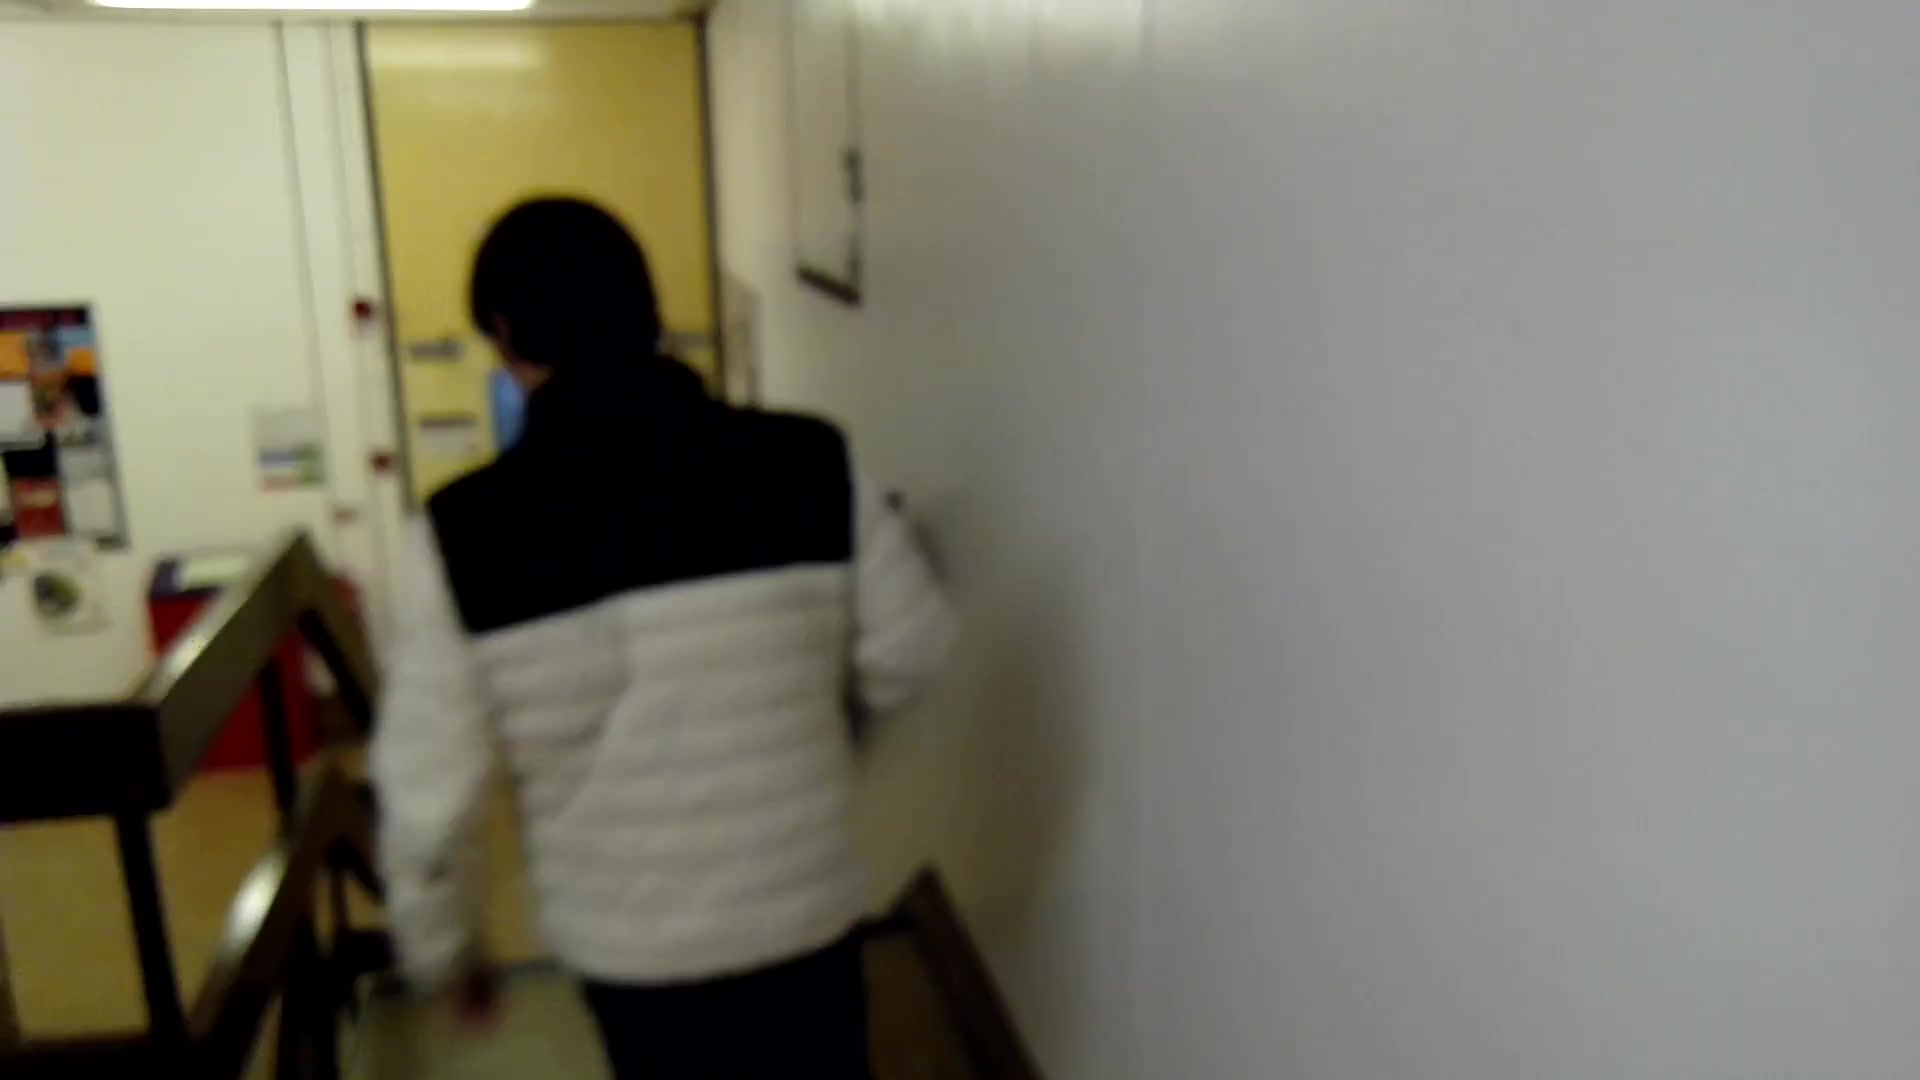Person: (392, 191, 953, 1053)
